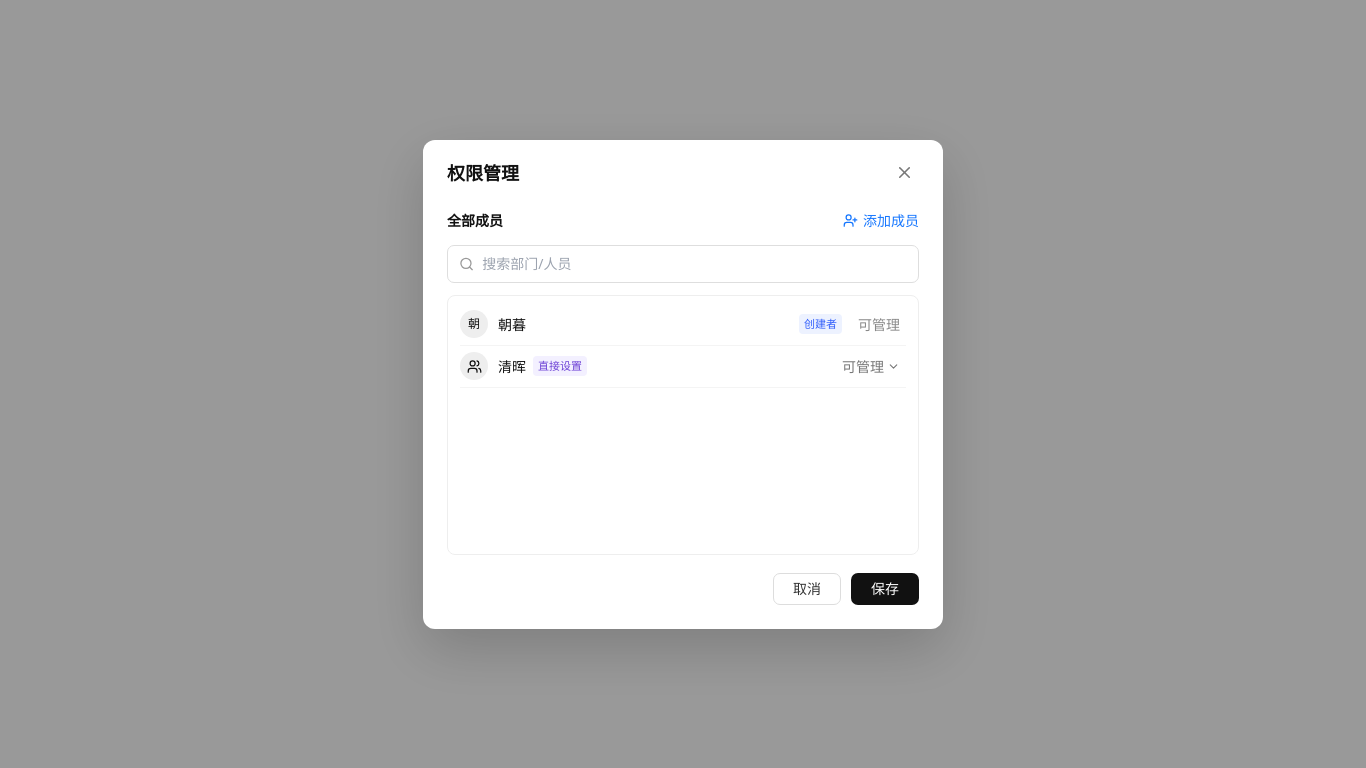
V1.4.0 three public-space roles › can change peer manager grants while omitting peer removal
Click the button with aria-label "清晖权限" at (871, 366), box [836,350,906,382]
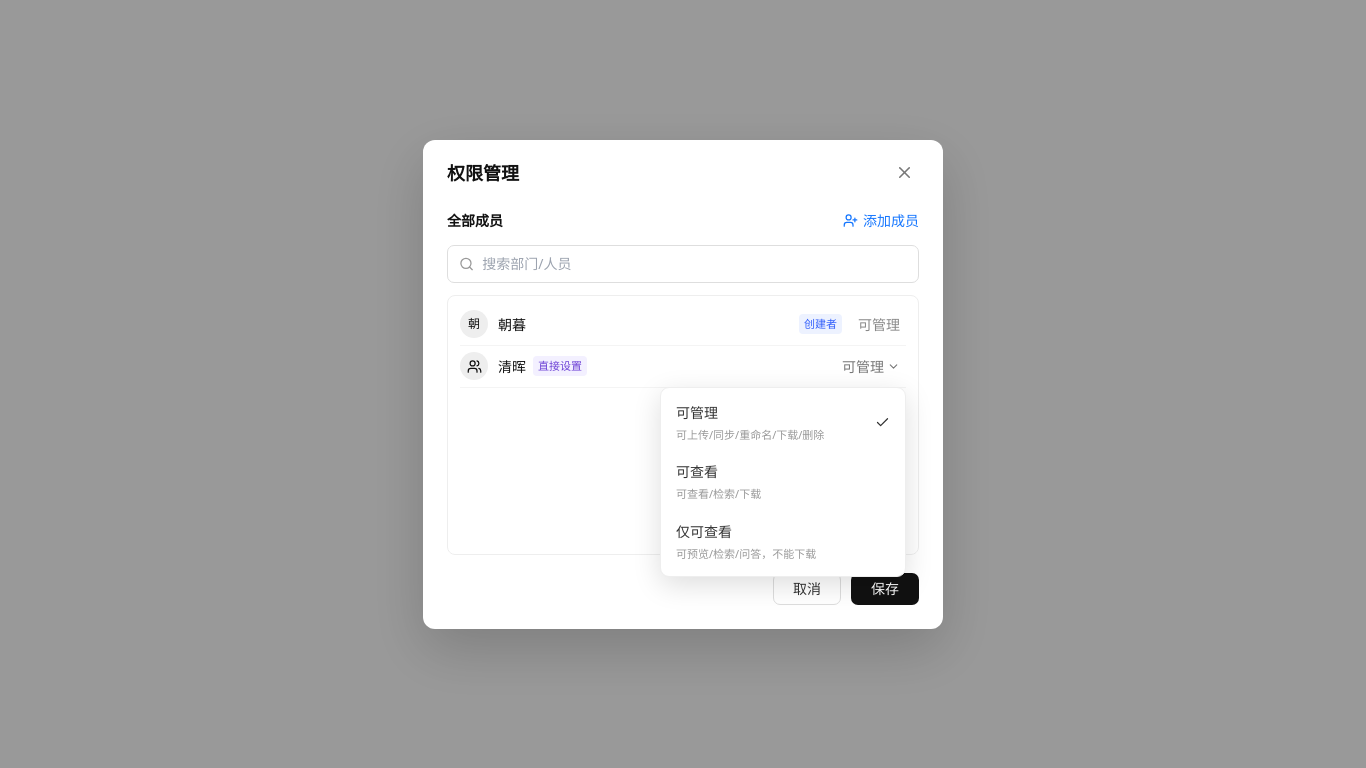
Click the menu item "可查看 可查看/检索/下载" at (783, 482), box [666,452,900,512]
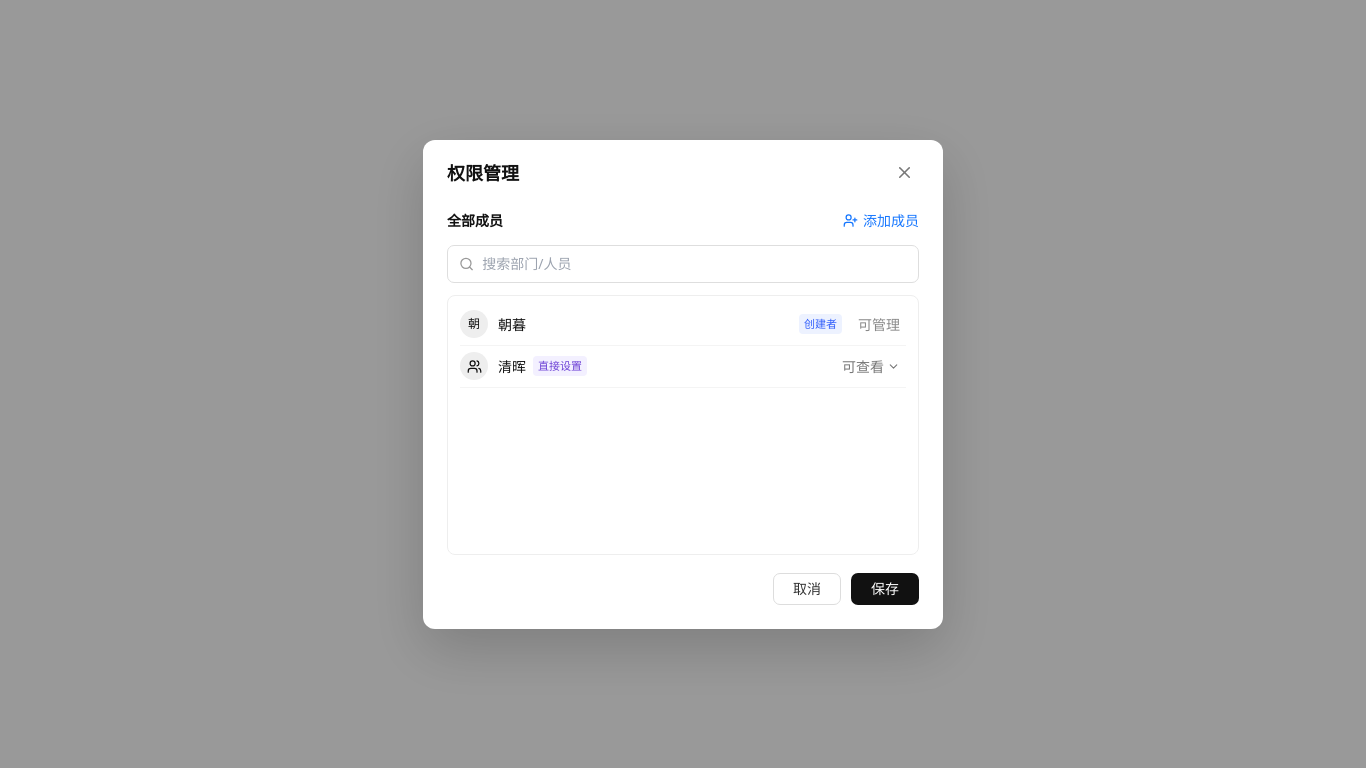
Expected: the button with aria-label "清晖权限" reads "可查看", [836,350,906,382]
